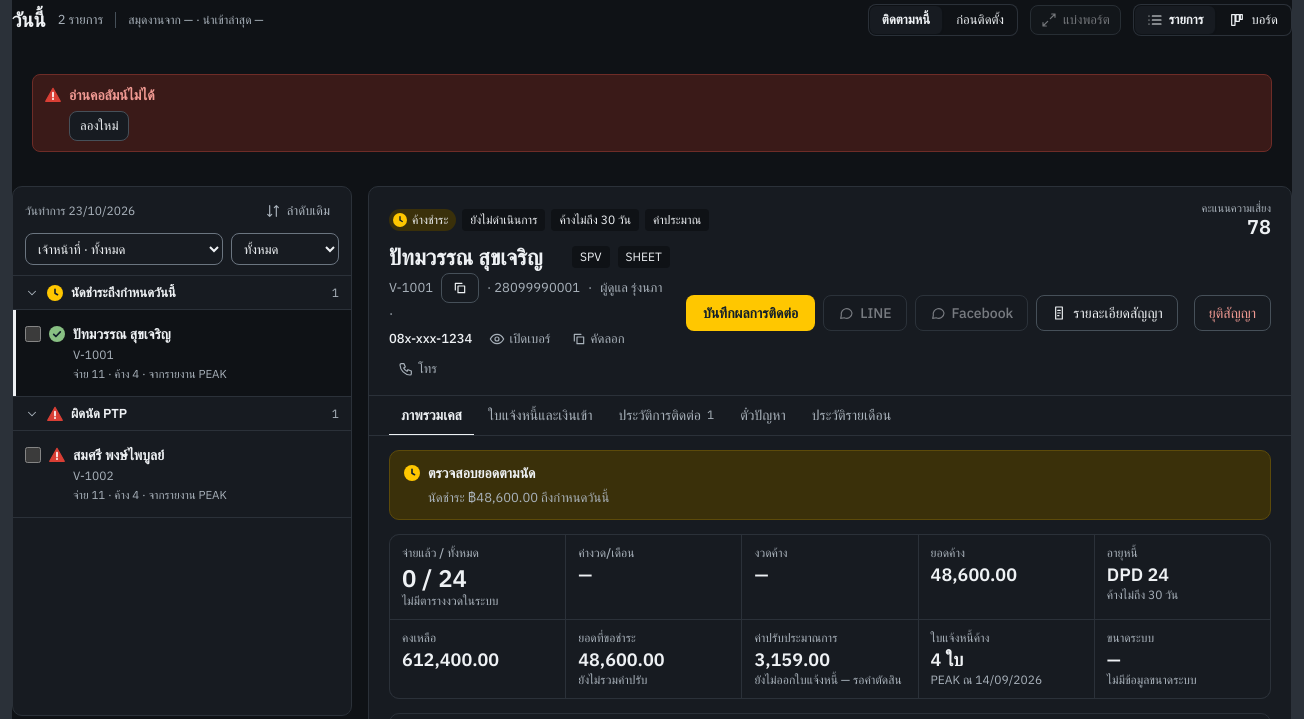
it: Today › reports board metadata failures and retries them
Check: the message "อ่านคอลัมน์ไม่ได้ ลองใหม่" is shown, box [32,74,1272,152]
Click the button "ลองใหม่" at [99, 126], box [69,111,129,141]
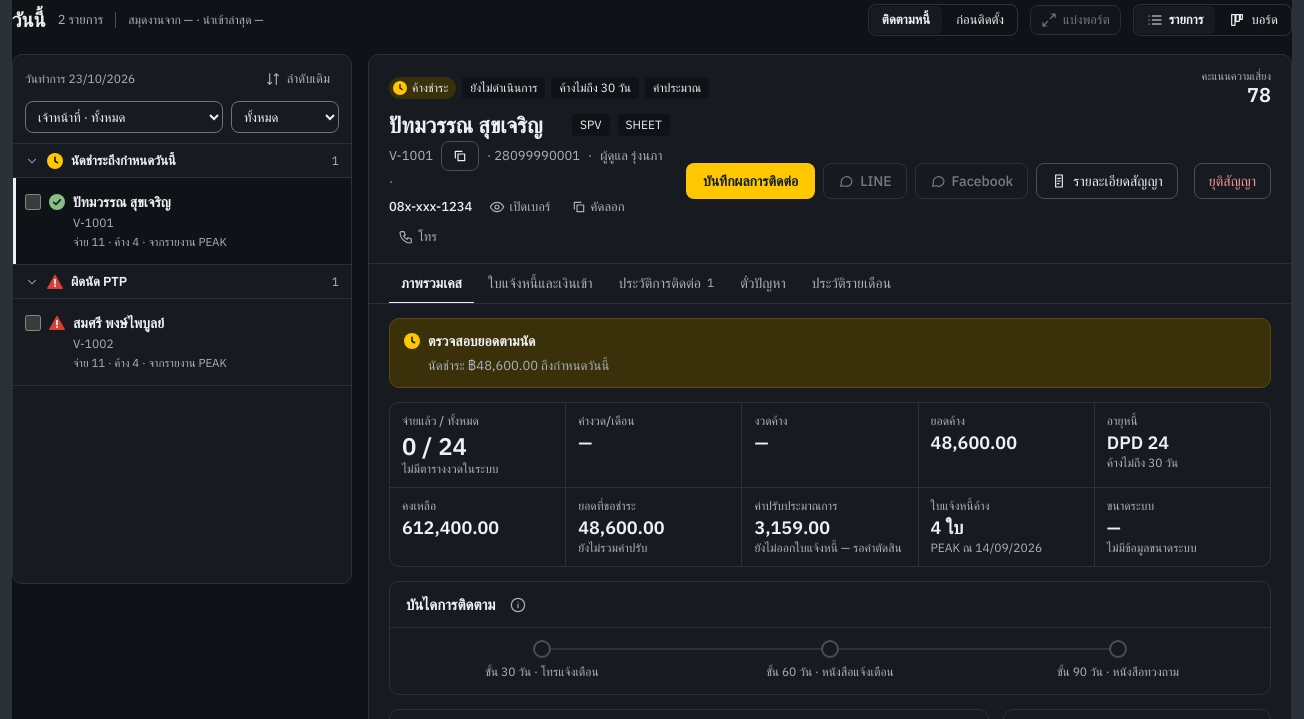
Check: the message "อ่านคอลัมน์ไม่ได้ ลองใหม่" is gone
